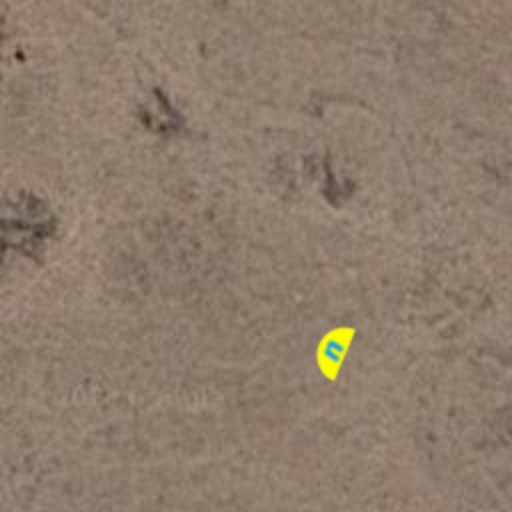semicircle: (294, 312, 370, 388)
